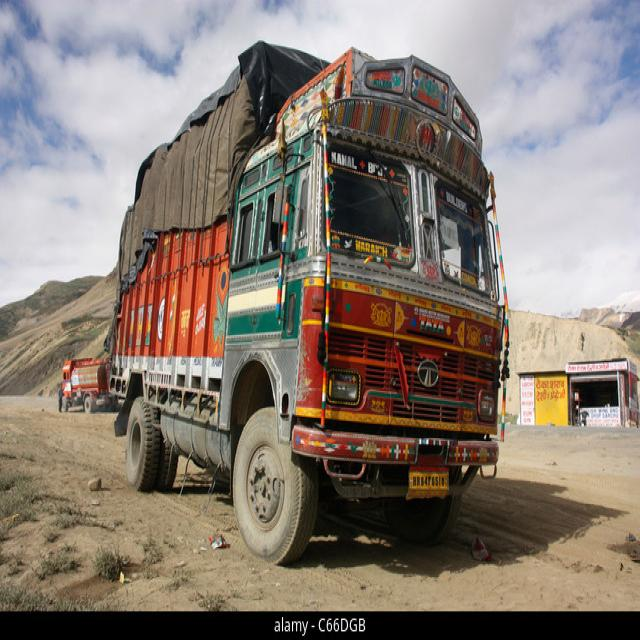goods: (119, 42, 331, 296)
truck: (113, 49, 507, 568)
